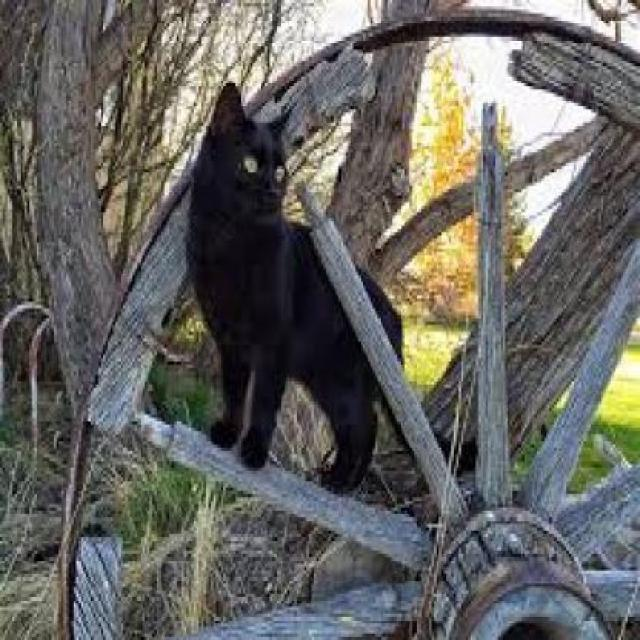animals: (177, 76, 417, 501)
